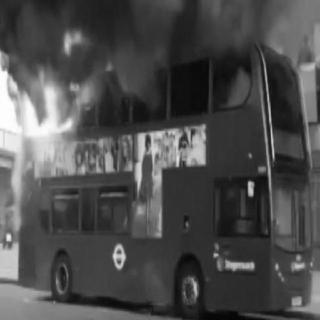Fire: (3, 45, 97, 153)
Smoke: (1, 0, 298, 66)
